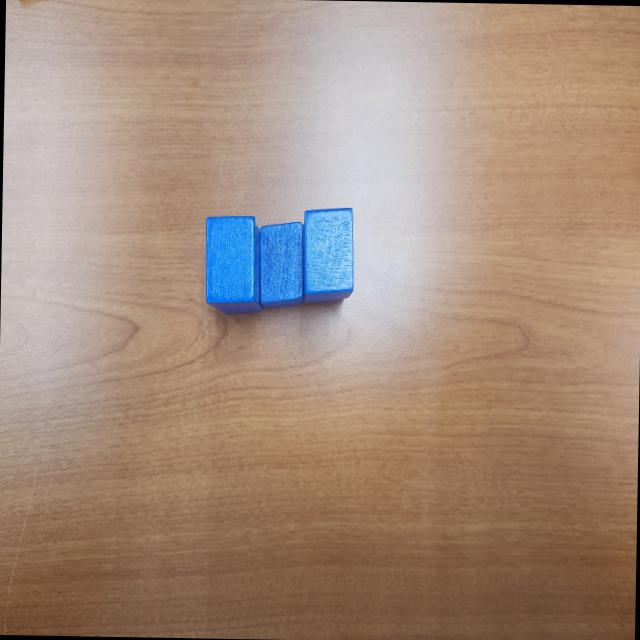blue: (301, 206, 357, 306), (204, 215, 256, 309), (256, 220, 307, 308), (218, 222, 265, 316)
